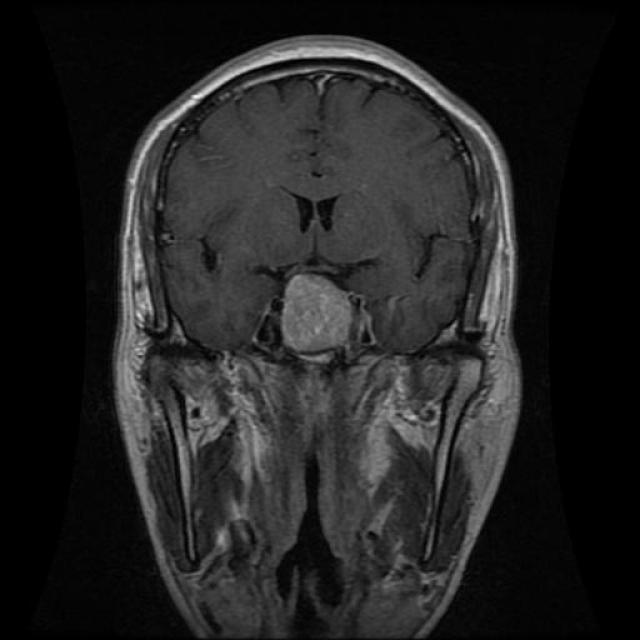Brain-Tumor: (274, 258, 361, 365)
